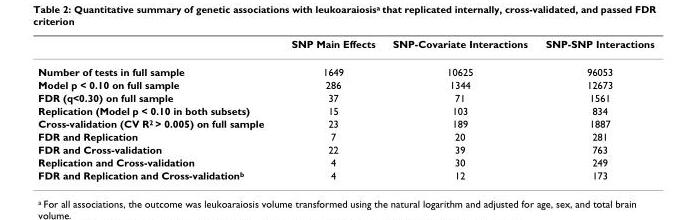table: (37, 37, 653, 181)
table column: (37, 37, 277, 181), (383, 37, 535, 181), (535, 37, 653, 181), (277, 37, 383, 181)
table column header: (37, 37, 653, 57)
table row: (37, 37, 653, 57), (37, 57, 653, 77), (37, 77, 653, 90), (37, 90, 653, 103), (37, 103, 653, 116), (37, 116, 653, 129), (37, 129, 653, 142), (37, 142, 653, 155), (37, 155, 653, 168), (37, 168, 653, 181)
